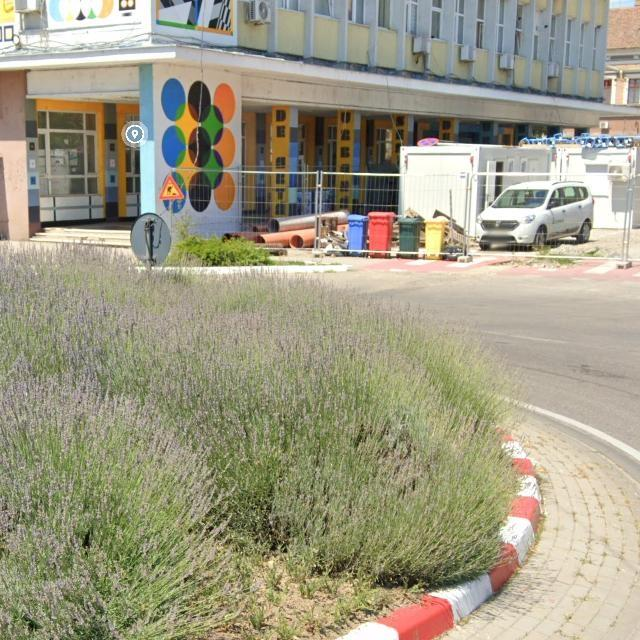forb_waiting: (417, 138, 440, 147)
